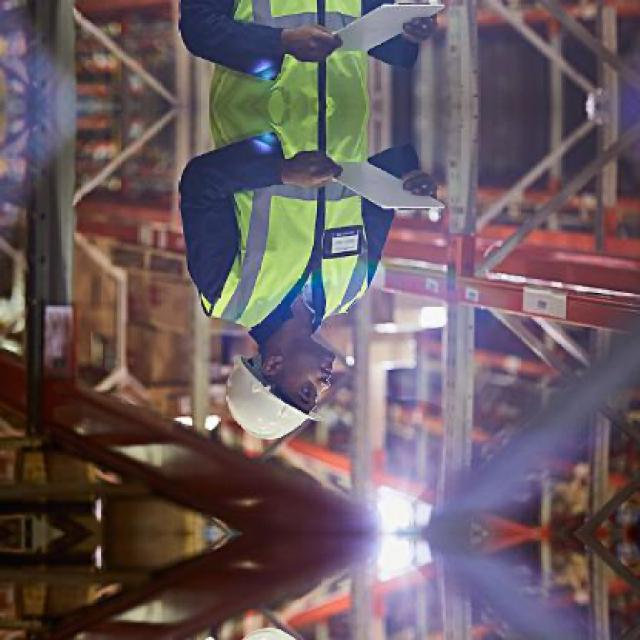safetyhelmet: (222, 295, 348, 440)
